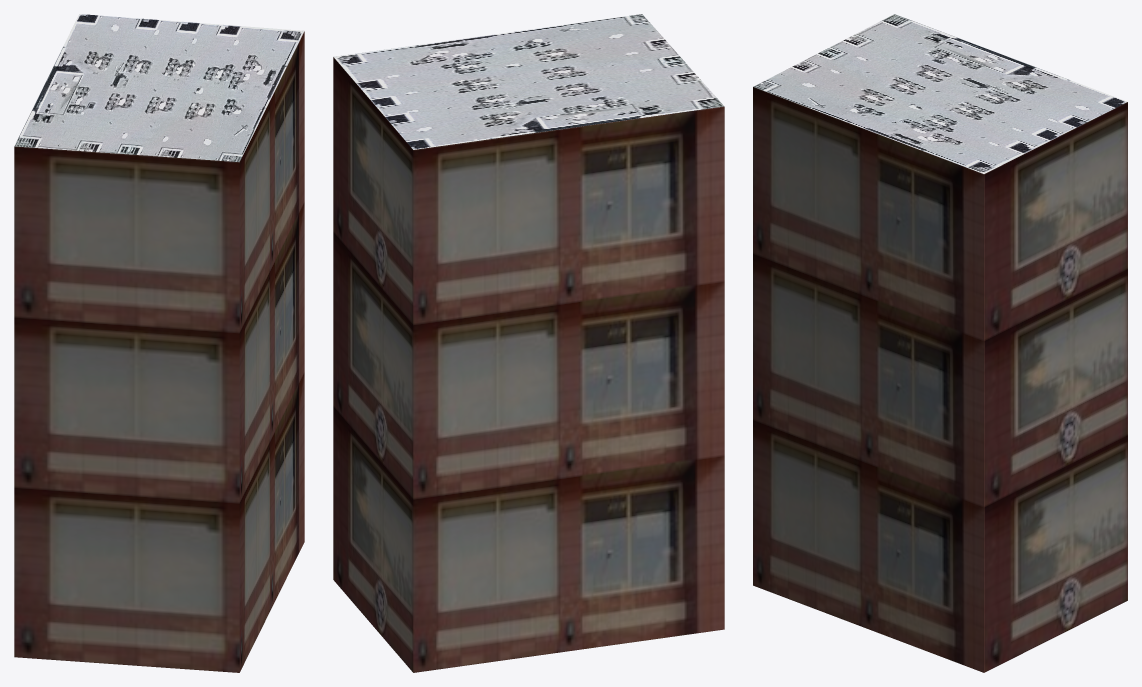
Rendered from ResTex__4096.fbx.
3 views of the same model, side by side, from view 1: azimuth 30°, elevation 25°; view 2: azimuth 150°, elevation 25°; view 3: azimuth 270°, elevation 25° (orthographic). The views are drawn at different scales.
Visible parts, largest first — view 1: CityEngineMaterial_13_m, CityEngineMaterial_8_m; view 2: CityEngineMaterial_13_m, CityEngineMaterial_8_m; view 3: CityEngineMaterial_13_m, CityEngineMaterial_8_m.
Part boxes in pixels (x1=…): CityEngineMaterial_13_m: x1=14, y1=31, x2=304, y2=672; CityEngineMaterial_8_m: x1=14, y1=14, x2=304, y2=162; CityEngineMaterial_13_m: x1=333, y1=57, x2=724, y2=672; CityEngineMaterial_8_m: x1=333, y1=14, x2=724, y2=149; CityEngineMaterial_13_m: x1=753, y1=87, x2=1127, y2=672; CityEngineMaterial_8_m: x1=753, y1=14, x2=1127, y2=173.
Size of the model in its own units: 6.2 by 9 by 6.13.
2 materials, 2 textured.
